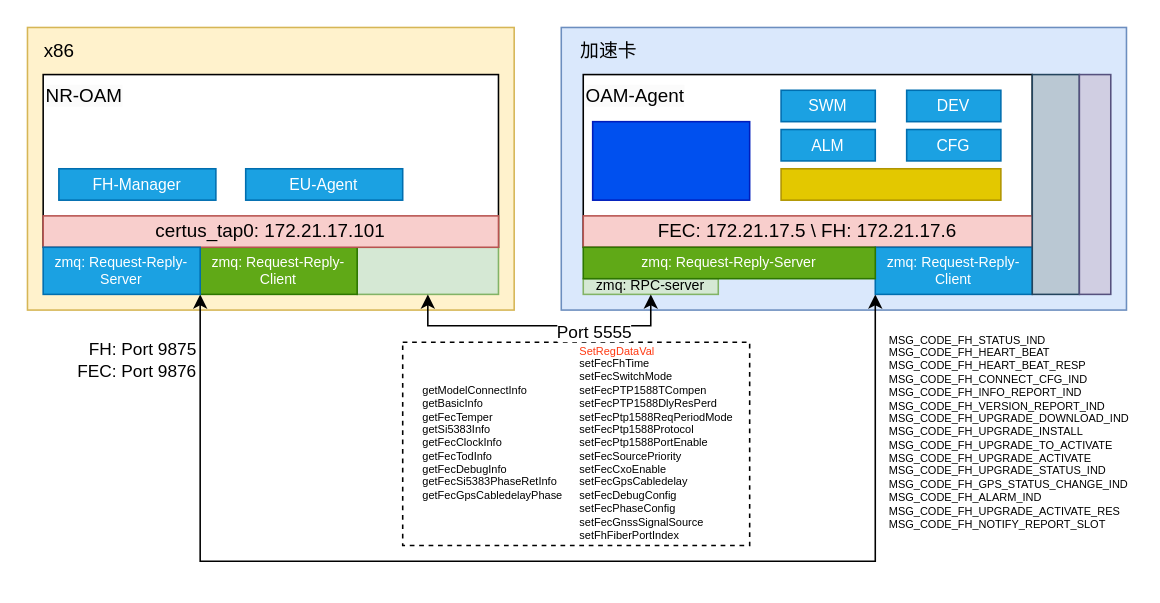
Some shapes in this 1160 by 603 pixel diagram are drawn without their labels. The centre of each missing label's shape, as x and y in pixels:
cts_oam_start.sh: the point at 1094,183
fh_config.json: the point at 890,183
isp_app（驱动维护）: the point at 670,160
oam xx mon (守护 进程): the point at 1055,183
zmq: RPC-client: the point at 427,270
